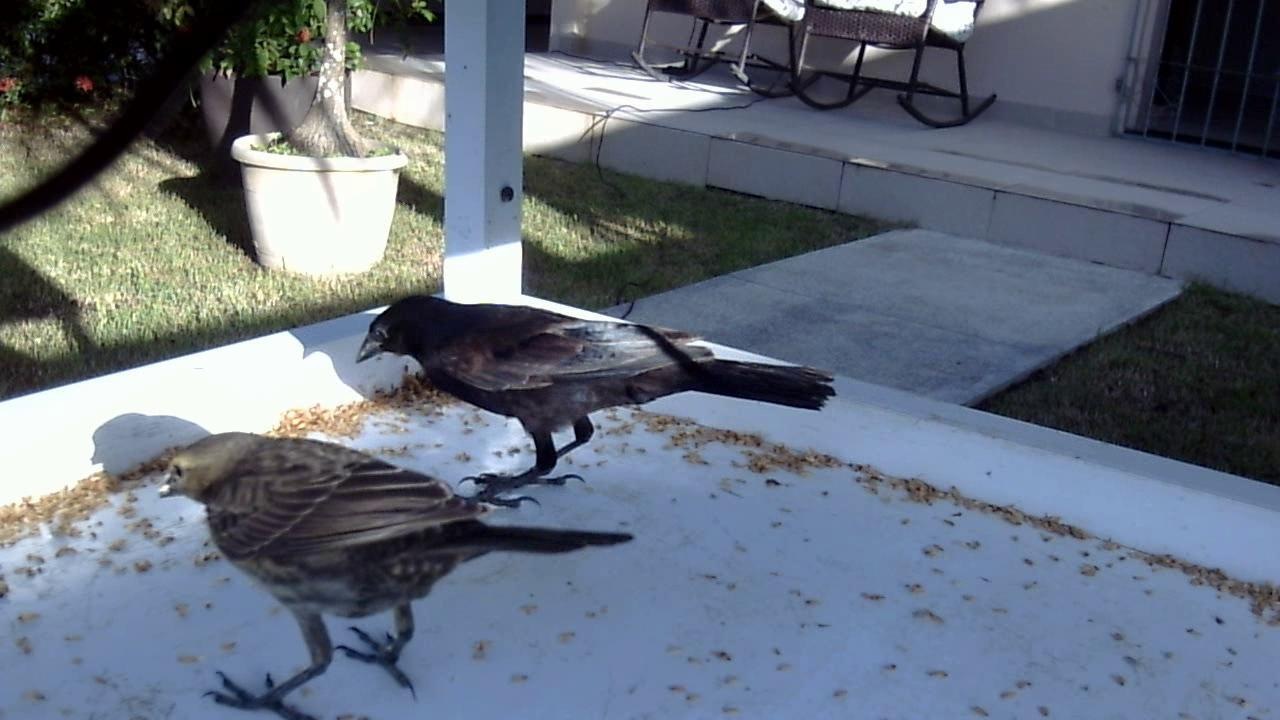chupim: (145, 401, 638, 715), (338, 253, 841, 523)
